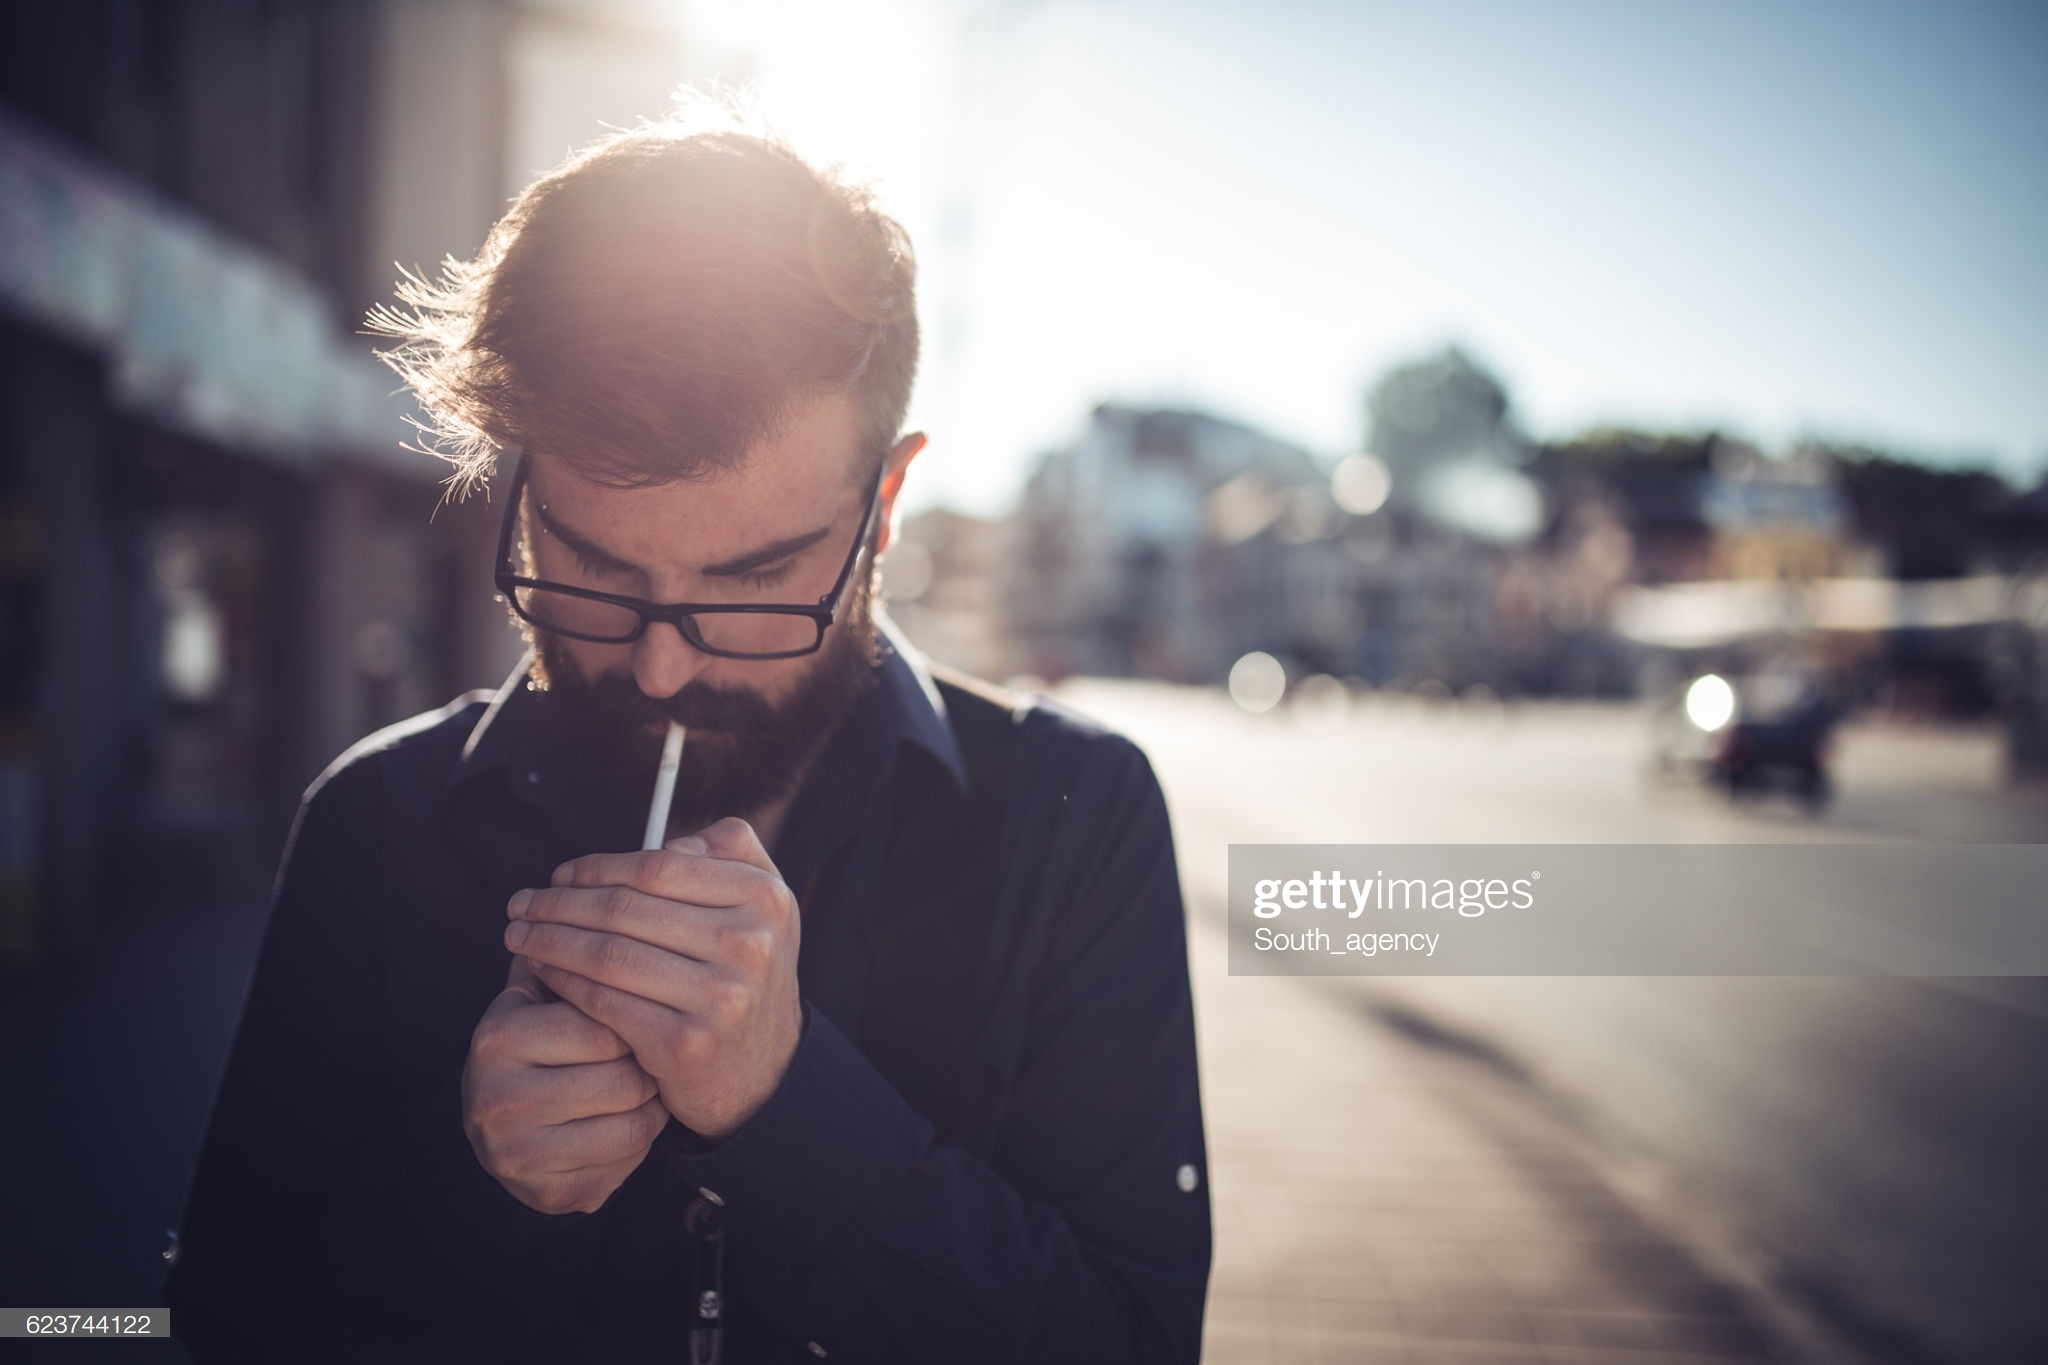sigaretta: (624, 707, 687, 906)
